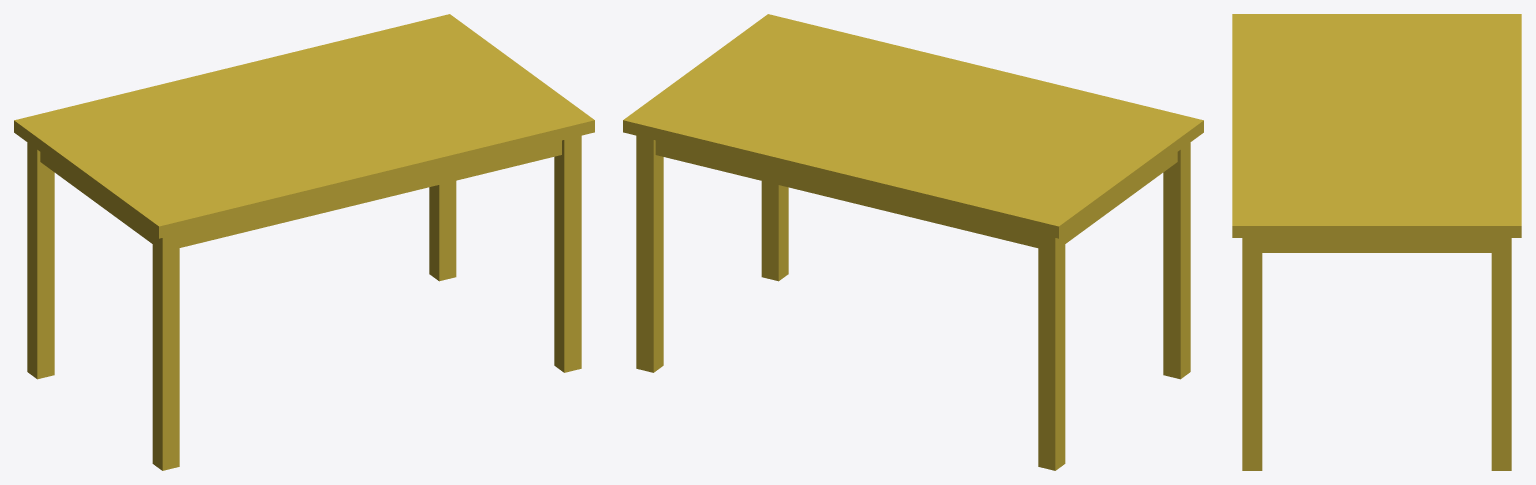
File: Olmsted.fbx
The picture shows the model from 3 angles, left to right: view 1: azimuth 30°, elevation 25°; view 2: azimuth 150°, elevation 25°; view 3: azimuth 270°, elevation 25°; orthographic projection.
Parts seen in each view (by area): view 1: LOW; view 2: LOW; view 3: LOW.
Boxes of the visible parts, x1=… form: LOW: x1=14, y1=14, x2=594, y2=470; LOW: x1=623, y1=14, x2=1203, y2=470; LOW: x1=1232, y1=14, x2=1521, y2=470.
Bounding box in the file's own units: 358 × 196 × 206.
